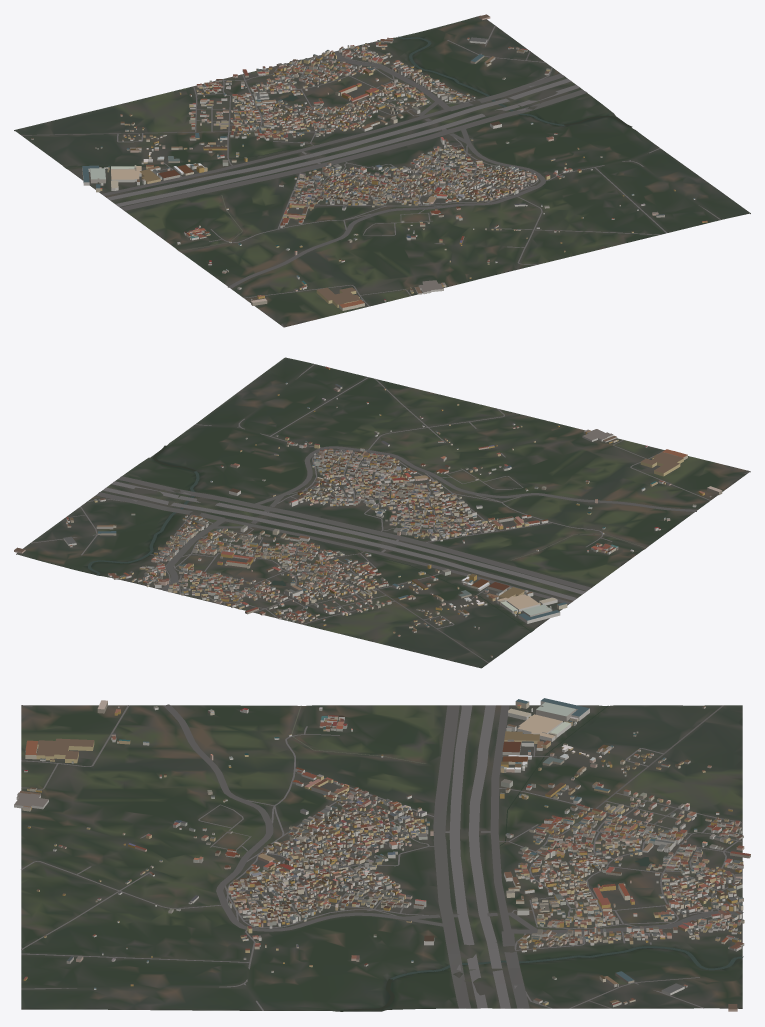
The picture shows the model from 3 angles, top to bottom: view 1: azimuth 30°, elevation 25°; view 2: azimuth 150°, elevation 25°; view 3: azimuth 270°, elevation 25°; orthographic projection. The views are drawn at different scales.
Parts seen in each view (by area): view 1: ground, buildings, roads, water; view 2: ground, buildings, roads, water; view 3: ground, buildings, roads, water.
Boxes of the visible parts, x1,y1,x2,y2 form: ground: (14, 15, 750, 327); buildings: (31, 14, 707, 310); roads: (21, 25, 720, 327); water: (68, 36, 632, 251); ground: (16, 357, 750, 668); buildings: (14, 366, 722, 657); roads: (30, 364, 750, 663); water: (88, 445, 645, 631); ground: (21, 705, 742, 1011); buildings: (14, 698, 750, 1011); roads: (21, 704, 743, 1010); water: (291, 705, 743, 1011).
Size of the model in its own units: 1426 by 21.38 by 1432.
